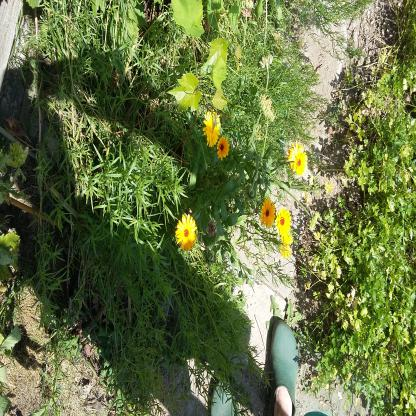marigold: (176, 212, 198, 252), (202, 106, 220, 147), (290, 143, 306, 177), (261, 198, 275, 228), (277, 206, 291, 236), (279, 230, 293, 257), (216, 134, 231, 159)
